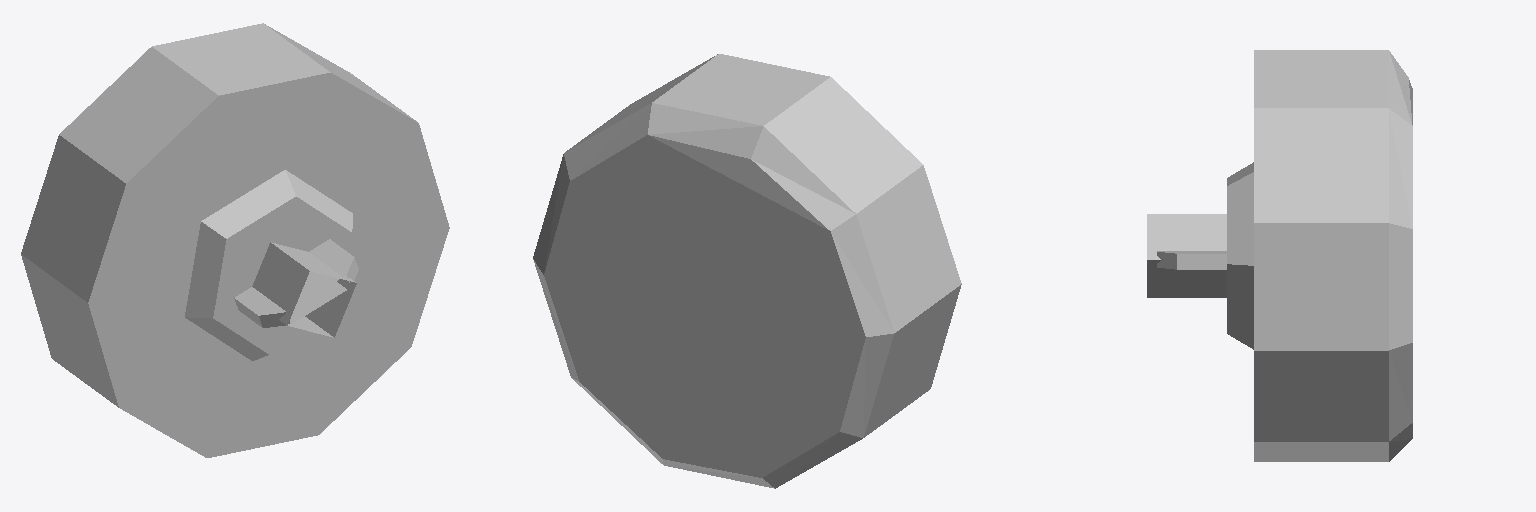
File: wheel63.obj
3 renders of one model, left to right at view 1: azimuth 30°, elevation 25°; view 2: azimuth 150°, elevation 25°; view 3: azimuth 270°, elevation 25°, orthographic.
Parts seen in each view (by area): view 1: wheel_low_textures; view 2: wheel_low_textures; view 3: wheel_low_textures.
Boxes of the visible parts, x1,y1,x2,y2 form: wheel_low_textures: [21, 23, 449, 457]; wheel_low_textures: [533, 54, 961, 488]; wheel_low_textures: [1147, 50, 1412, 461].
Size of the model in its own units: 1.56 by 1.5 by 0.9907.